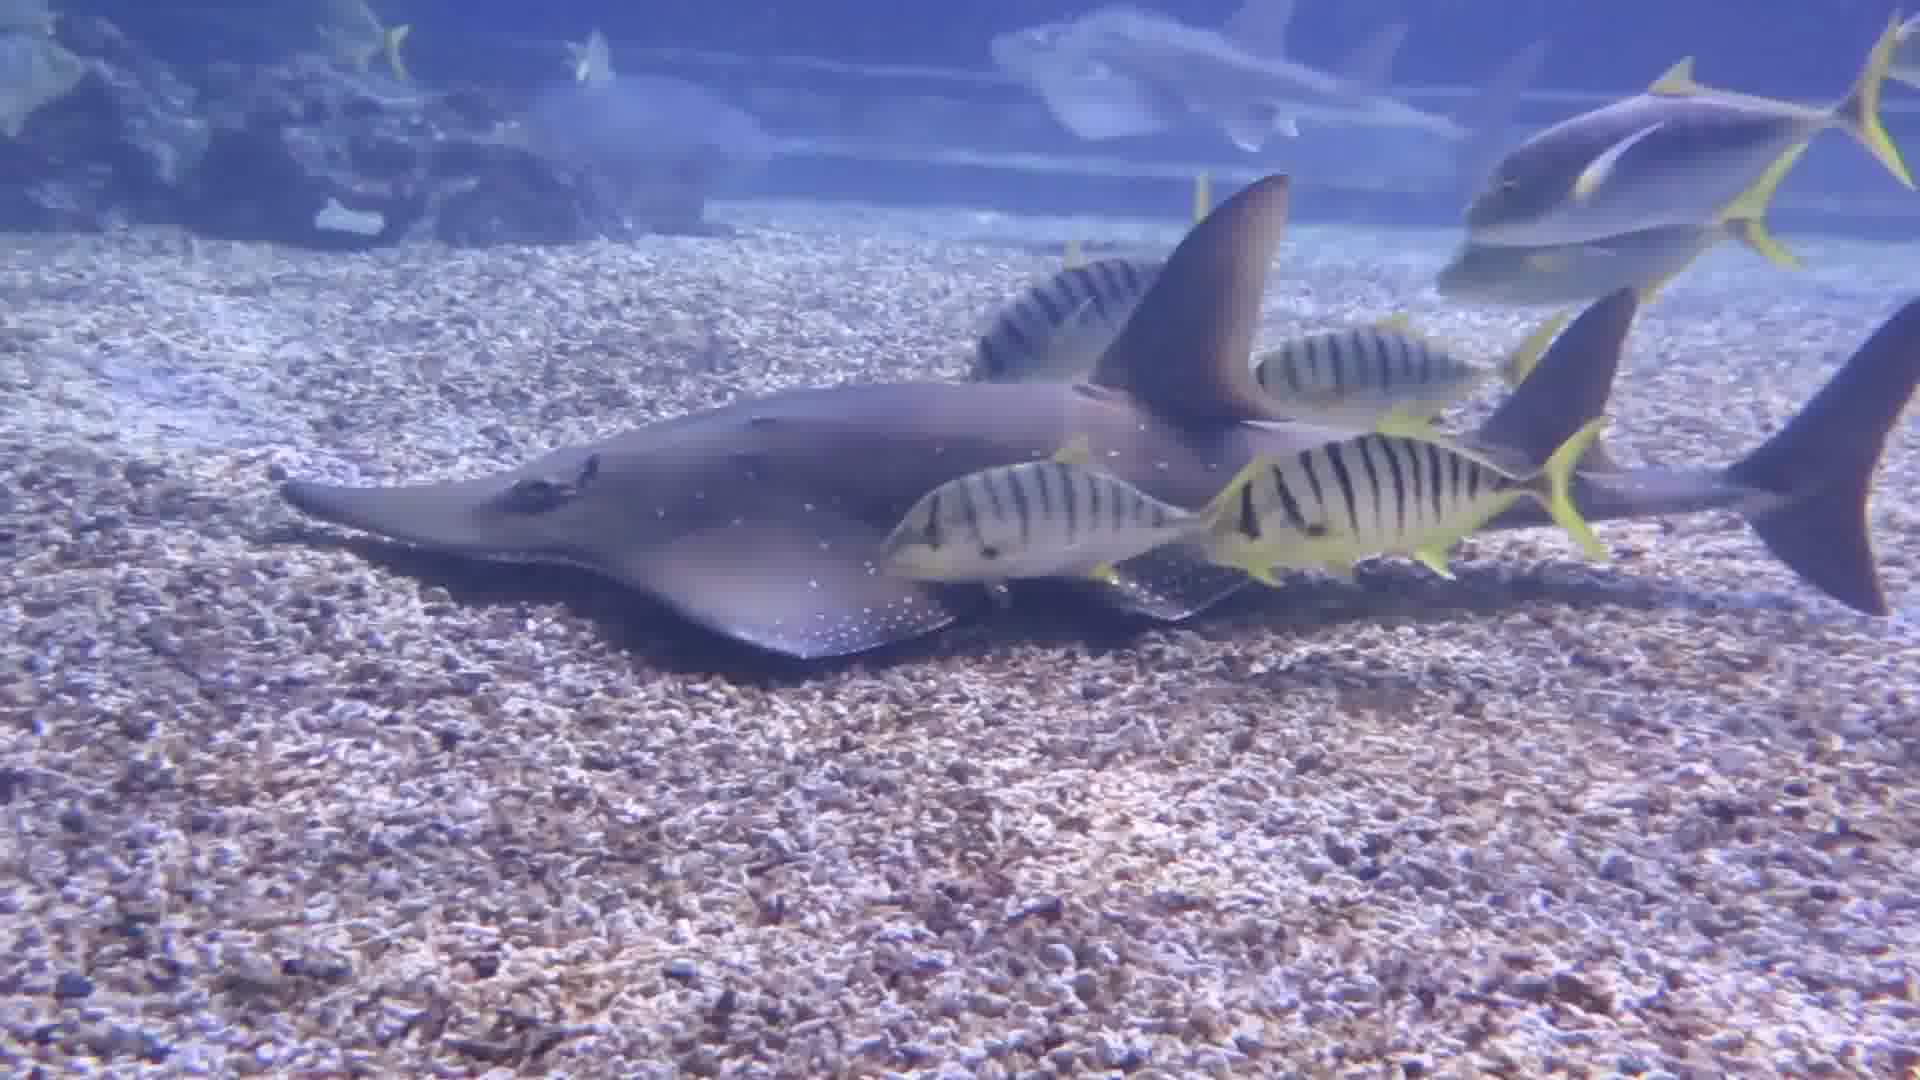Rhychobatus djiddensis: (272, 185, 1920, 663)
